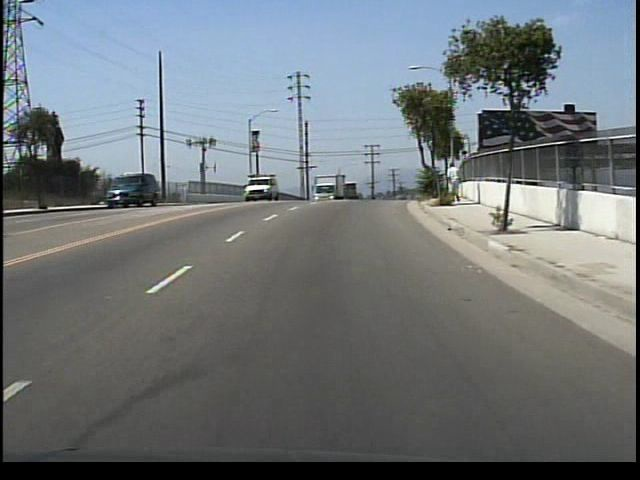person: (444, 160, 464, 206)
